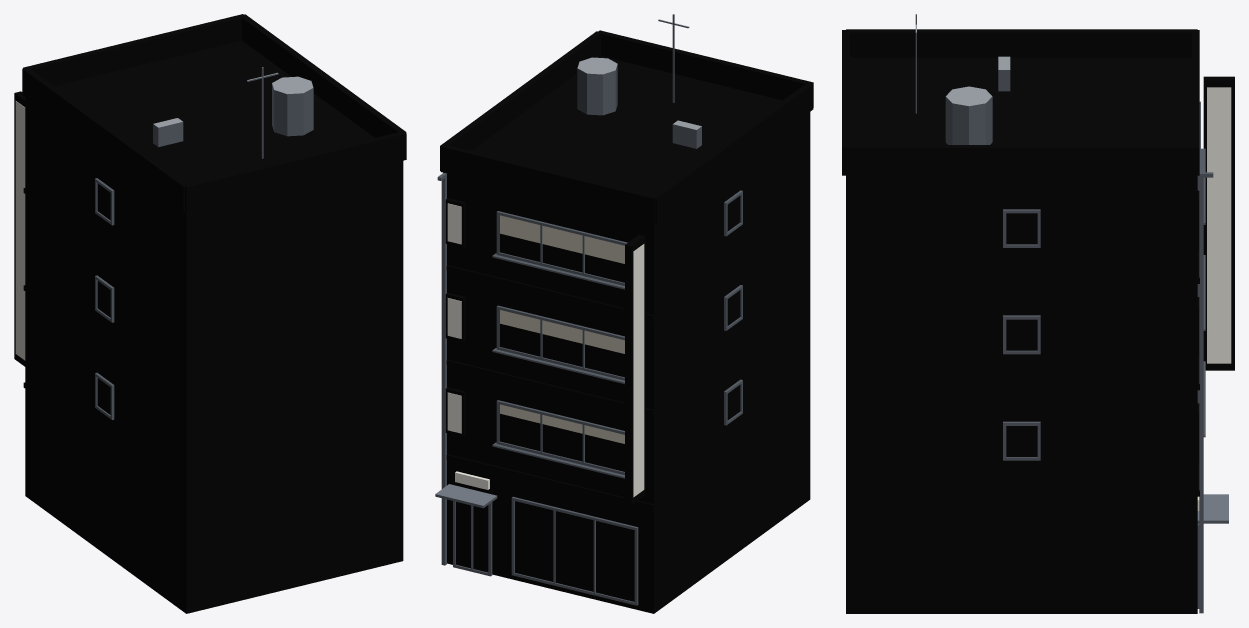
Rendered from Zakkyo_A.fbx.
3 renders of one model, left to right at view 1: azimuth 30°, elevation 25°; view 2: azimuth 150°, elevation 25°; view 3: azimuth 270°, elevation 25°, orthographic. The views are drawn at different scales.
Parts seen in each view (by area): view 1: Body.005, RoofTop.005, RoofThings.001, GlowBlade.001, WinFrame.010, Glass.010, Blade.001; view 2: Body.005, RoofTop.005, Glass.010, WinFrame.010, Curtain0.009, Floors, LitGlassTv.003, RoofThings.001, Blade.001, GlowBlade.001, Pipes.010, LitGlassDim.005 (+4 smaller); view 3: Body.005, RoofTop.005, GlowBlade.001, RoofThings.001, WinFrame.010, Glass.010, Blade.001, Pipes.010, EntranceHood.
Boxes of the visible parts, left/top/right/bottom form: Body.005: left=25, top=97, right=403, bottom=613; RoofTop.005: left=22, top=14, right=406, bottom=213; RoofThings.001: left=153, top=67, right=313, bottom=158; GlowBlade.001: left=15, top=101, right=25, bottom=360; WinFrame.010: left=95, top=178, right=114, bottom=419; Glass.010: left=97, top=183, right=110, bottom=414; Blade.001: left=14, top=91, right=25, bottom=366; Body.005: left=447, top=112, right=810, bottom=613; RoofTop.005: left=440, top=30, right=813, bottom=223; Glass.010: left=499, top=196, right=740, bottom=601; WinFrame.010: left=453, top=190, right=742, bottom=605; Curtain0.009: left=500, top=215, right=624, bottom=443; Floors: left=446, top=265, right=654, bottom=509; LitGlassTv.003: left=499, top=404, right=624, bottom=471; RoofThings.001: left=577, top=14, right=701, bottom=148; Blade.001: left=625, top=234, right=645, bottom=504; GlowBlade.001: left=633, top=244, right=644, bottom=497; Pipes.010: left=437, top=172, right=446, bottom=565; LitGlassDim.005: left=456, top=502, right=488, bottom=572; Body.005: left=846, top=176, right=1197, bottom=613; RoofTop.005: left=842, top=29, right=1199, bottom=176; GlowBlade.001: left=1207, top=87, right=1231, bottom=363; RoofThings.001: left=915, top=14, right=1010, bottom=144; WinFrame.010: left=1003, top=101, right=1205, bottom=608; Glass.010: left=1006, top=213, right=1037, bottom=456; Blade.001: left=1203, top=76, right=1234, bottom=370; Pipes.010: left=1199, top=172, right=1213, bottom=613; EntranceHood: left=1197, top=494, right=1228, bottom=523.
Size of the model in its own units: 7.2 by 15.33 by 10.05.
